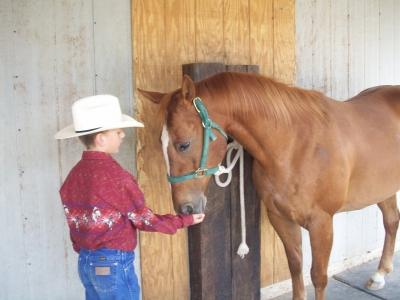person: (52, 94, 207, 300)
